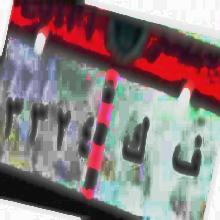2: (55, 105, 71, 158)
3: (27, 97, 49, 150)
4: (77, 116, 94, 164)
faa: (171, 129, 205, 187)
kaaf: (122, 110, 149, 172)
